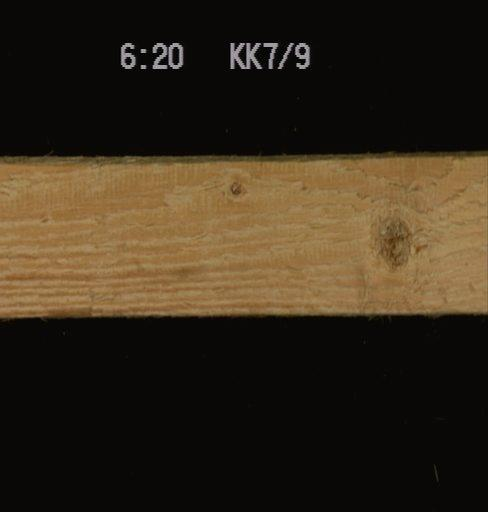small_knot: (223, 175, 249, 202)
sound_knot: (368, 206, 418, 274)
